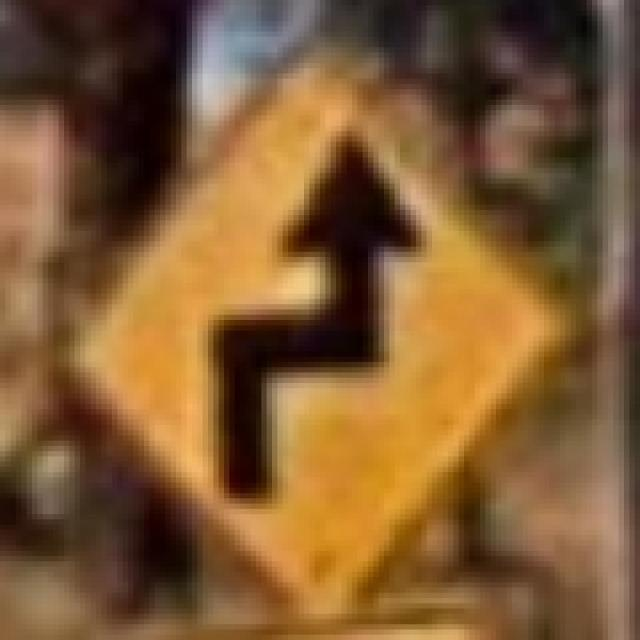Tikungan Ganda Pertama Ke Kanan: (59, 37, 576, 614)
